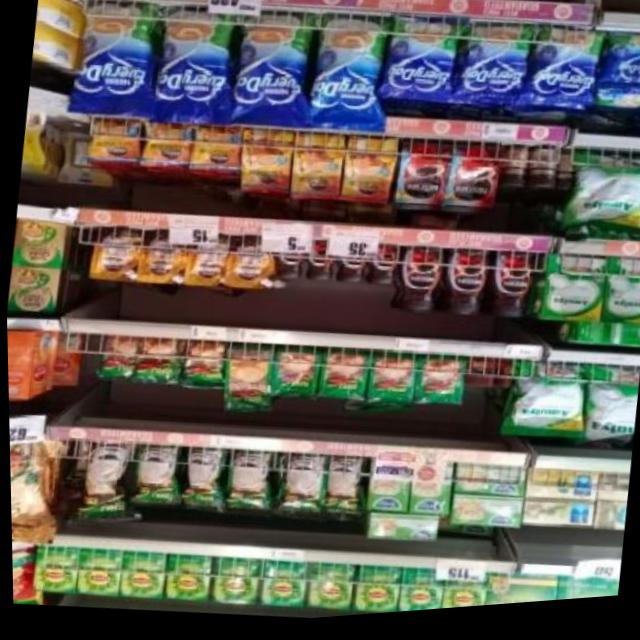Coffee: (442, 142, 502, 216), (340, 138, 397, 210), (287, 133, 344, 205), (393, 142, 451, 212), (236, 127, 293, 198), (438, 249, 493, 322), (393, 249, 447, 320), (484, 254, 536, 326), (188, 122, 242, 177), (88, 117, 142, 167), (143, 122, 192, 172), (300, 243, 337, 286), (362, 248, 398, 290)
